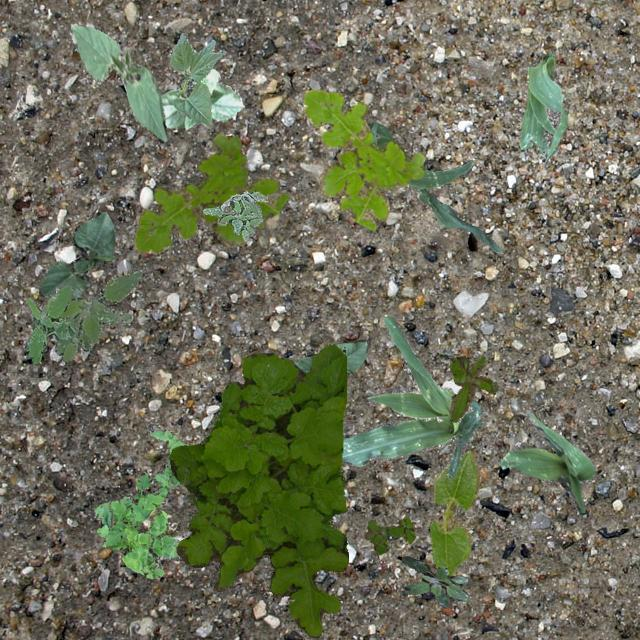crop: (340, 316, 482, 477), (366, 121, 502, 252), (68, 22, 165, 142), (500, 408, 596, 512), (37, 210, 114, 300), (428, 450, 478, 576), (518, 52, 566, 164), (158, 68, 244, 128), (168, 32, 224, 124), (294, 338, 366, 374)
weed: (168, 342, 348, 636), (132, 132, 288, 252), (300, 89, 424, 230), (92, 420, 186, 578), (54, 268, 142, 360), (26, 284, 74, 362), (401, 554, 468, 608), (202, 190, 266, 242), (448, 354, 496, 420), (364, 516, 414, 554)
